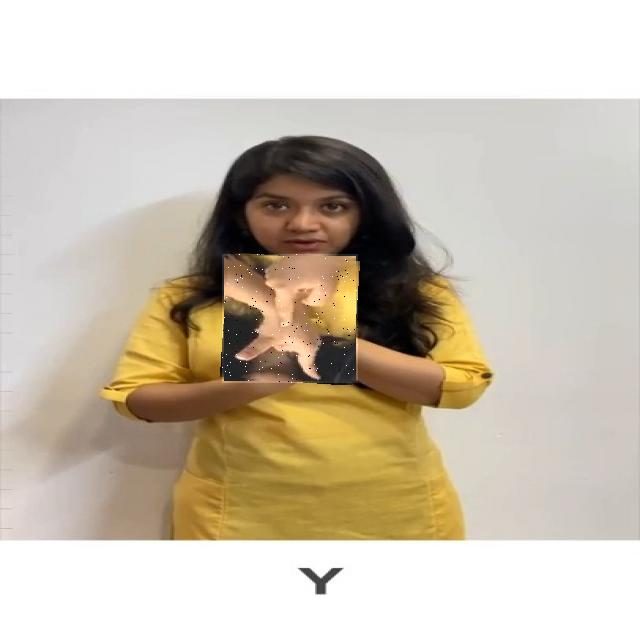Y: (222, 254, 358, 383)
